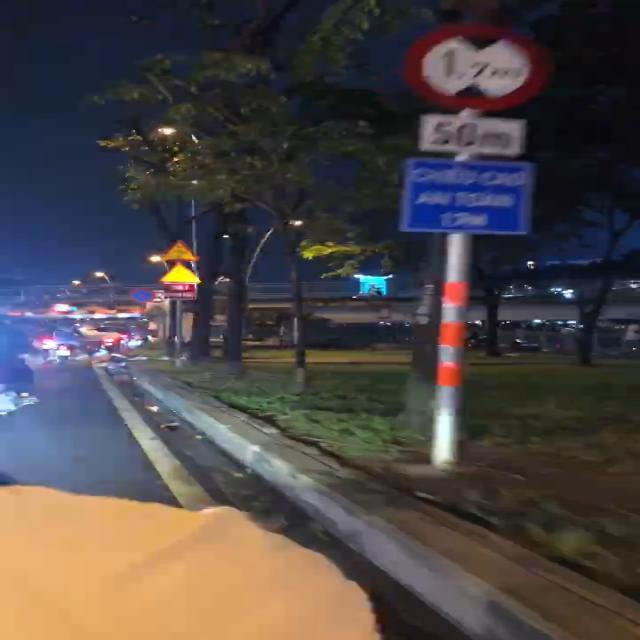Bien bao han che chieu cao: (396, 19, 561, 113)
